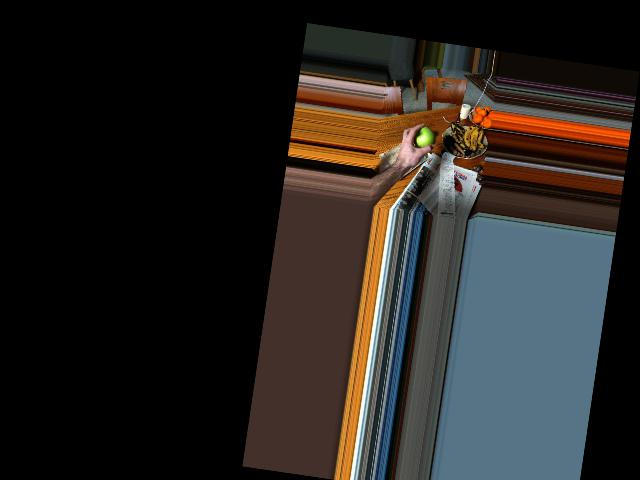apple: (409, 124, 436, 155)
